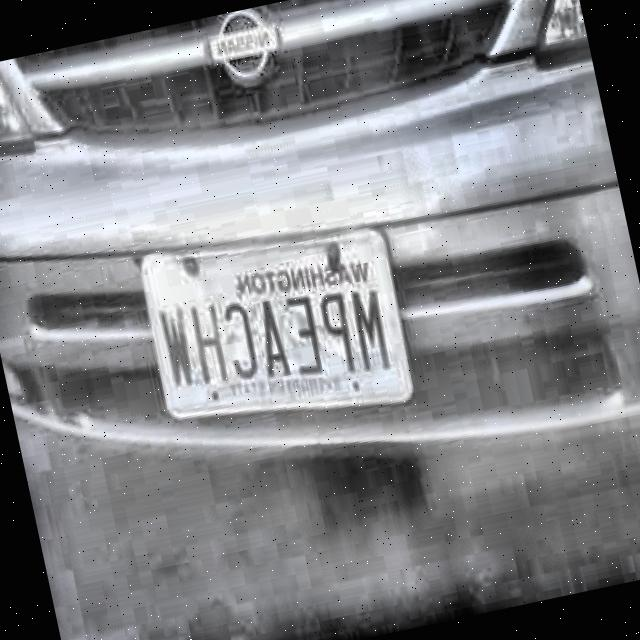license_plate: (136, 226, 418, 441)
